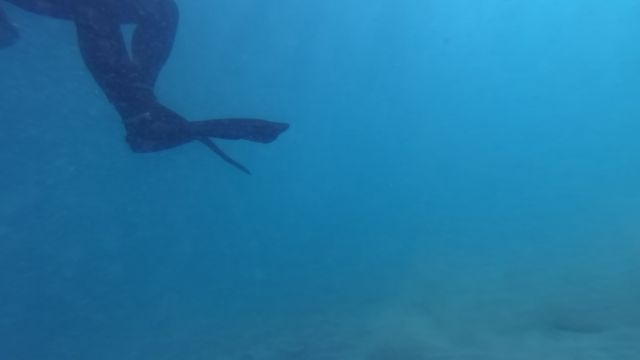Diver: (1, 4, 310, 199)
